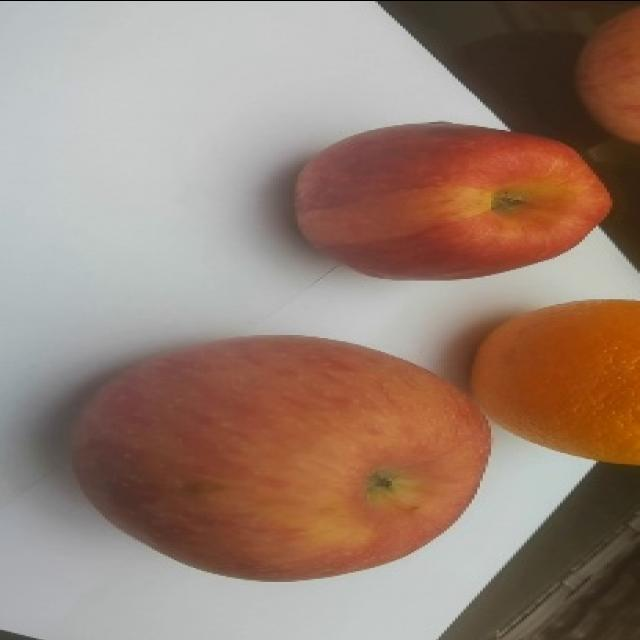Apple: (292, 120, 613, 281), (573, 6, 639, 144)
Orange: (70, 333, 491, 582), (469, 297, 639, 466)
